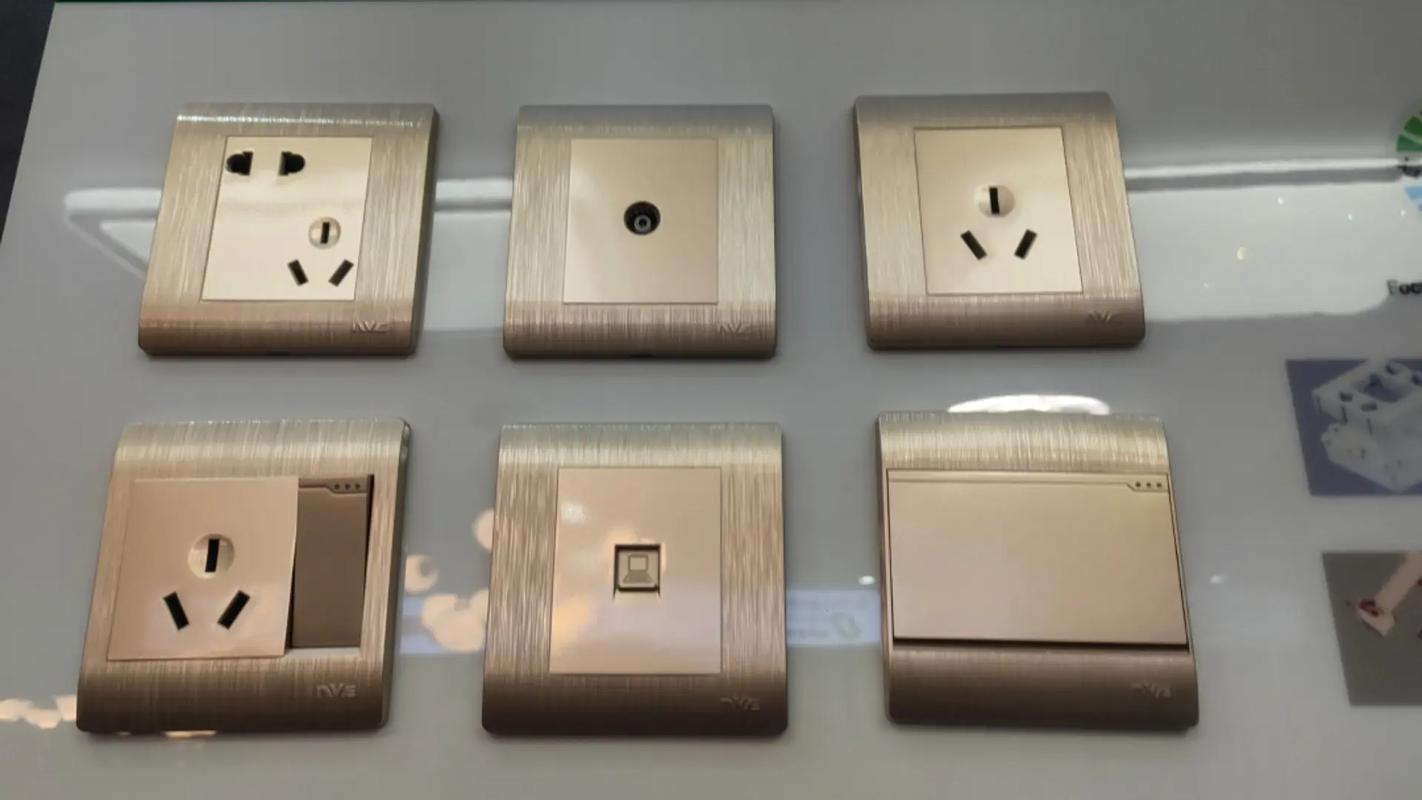button: (876, 409, 1204, 732), (75, 417, 410, 731)
